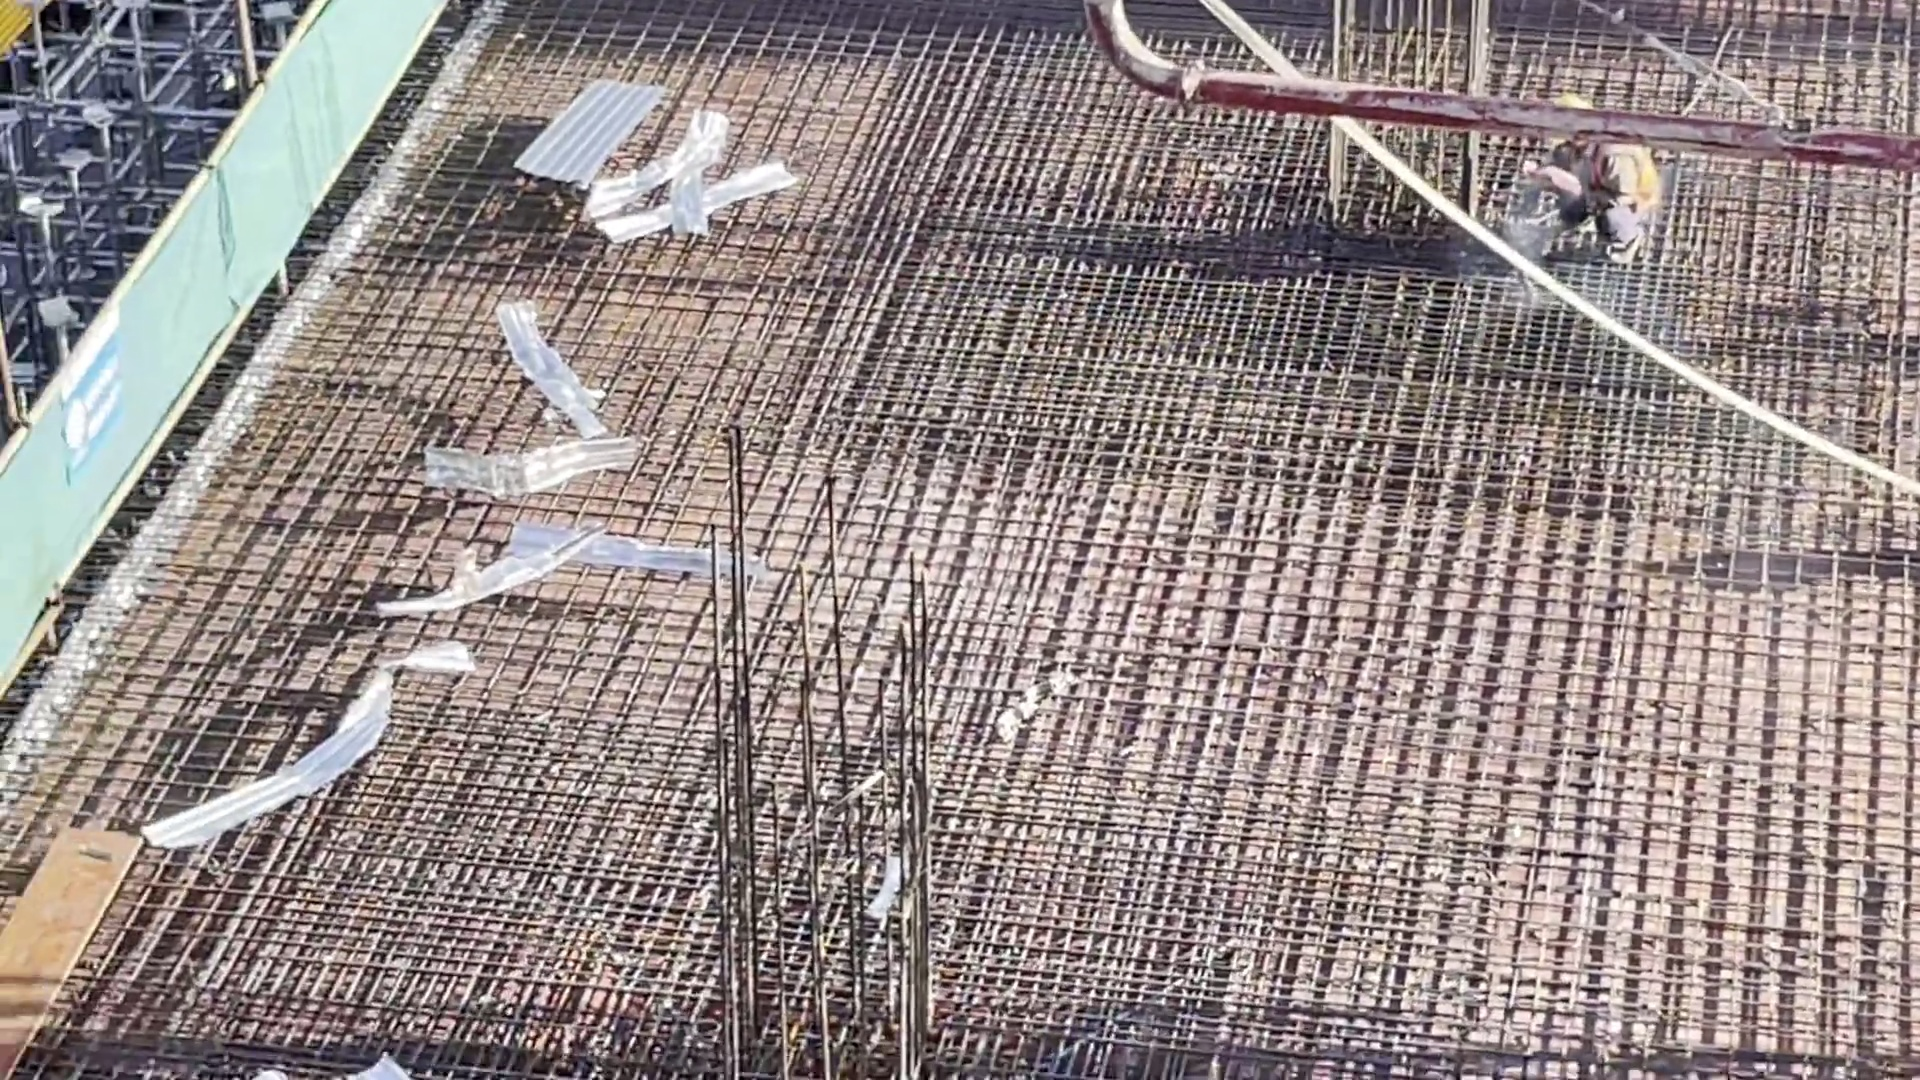person: (1523, 102, 1673, 280)
slogan: (54, 335, 127, 452)
vest: (1585, 147, 1660, 211)
